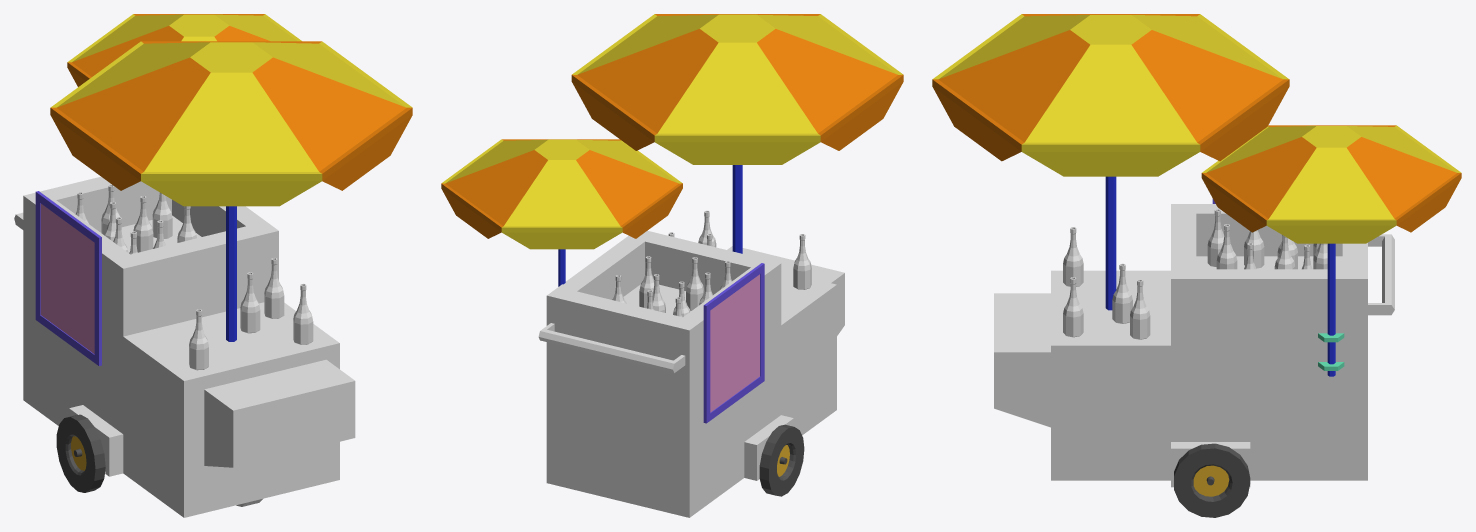
The model's file is cart.glb.
3 views of the same model, side by side, from view 1: azimuth 30°, elevation 25°; view 2: azimuth 150°, elevation 25°; view 3: azimuth 270°, elevation 25° (orthographic). The views are drawn at different scales.
Parts seen in each view (by area): view 1: Cube.002, Cylinder.001, Cylinder.002, Cylinder, Cylinder.003, Cylinder.008, Cylinder.012; view 2: Cube.002, Cylinder.003, Cylinder.009; view 3: Cube.002, Cylinder, Cylinder.002, Cylinder.001, Cylinder.003, Cylinder.010.
Part boxes in pixels (box(x1,y1,x2,y2)): Cube.002: box(14, 14, 412, 517); Cylinder.001: box(240, 272, 260, 333); Cylinder.002: box(293, 283, 313, 344); Cylinder: box(264, 258, 284, 318); Cylinder.003: box(189, 309, 208, 370); Cylinder.008: box(133, 196, 153, 252); Cylinder.012: box(152, 192, 172, 238); Cube.002: box(441, 14, 903, 517); Cylinder.003: box(793, 234, 811, 289); Cylinder.009: box(686, 257, 704, 310); Cube.002: box(932, 14, 1461, 517); Cylinder: box(1130, 279, 1150, 339); Cylinder.002: box(1063, 277, 1083, 337); Cylinder.001: box(1112, 263, 1132, 323); Cylinder.003: box(1063, 227, 1083, 286); Cylinder.010: box(1207, 209, 1224, 266).
Size of the model in its own units: 6.59 by 8.91 by 9.75.
